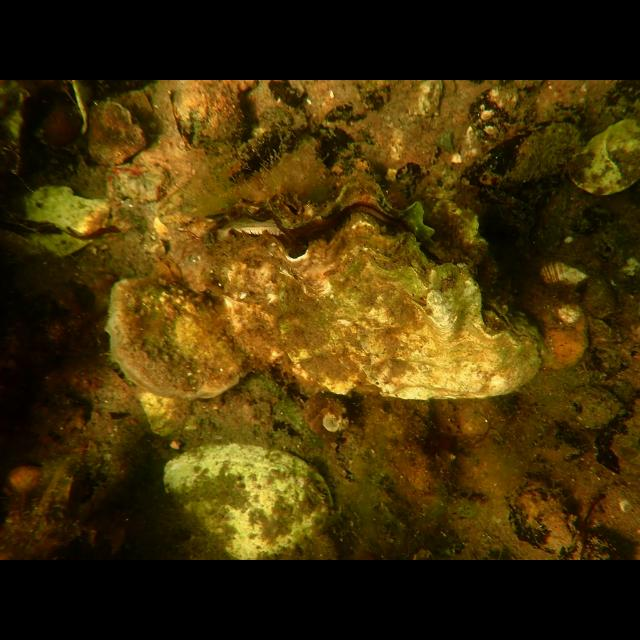Oyster-Closed: (162, 442, 336, 560), (102, 275, 254, 407)
Oyster-Open: (199, 180, 545, 404)
